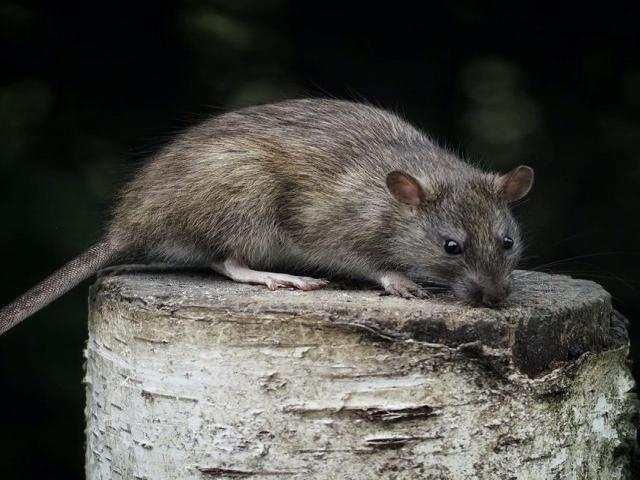Tikus: (95, 88, 547, 312)
